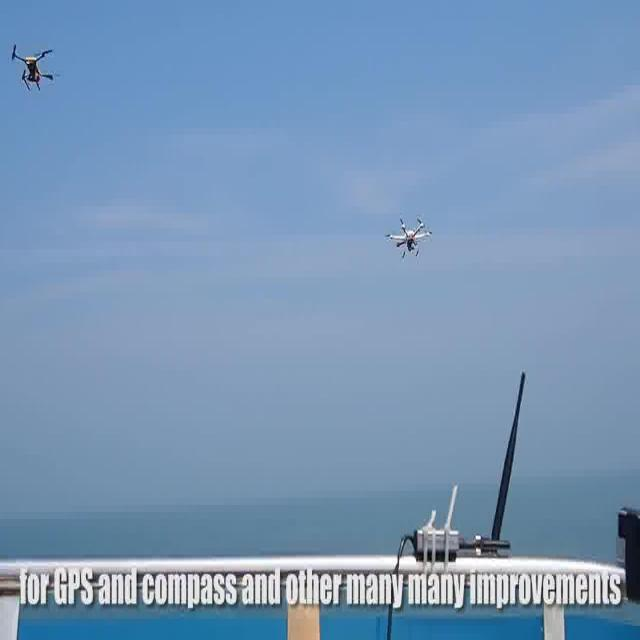drone: (9, 39, 57, 91)
